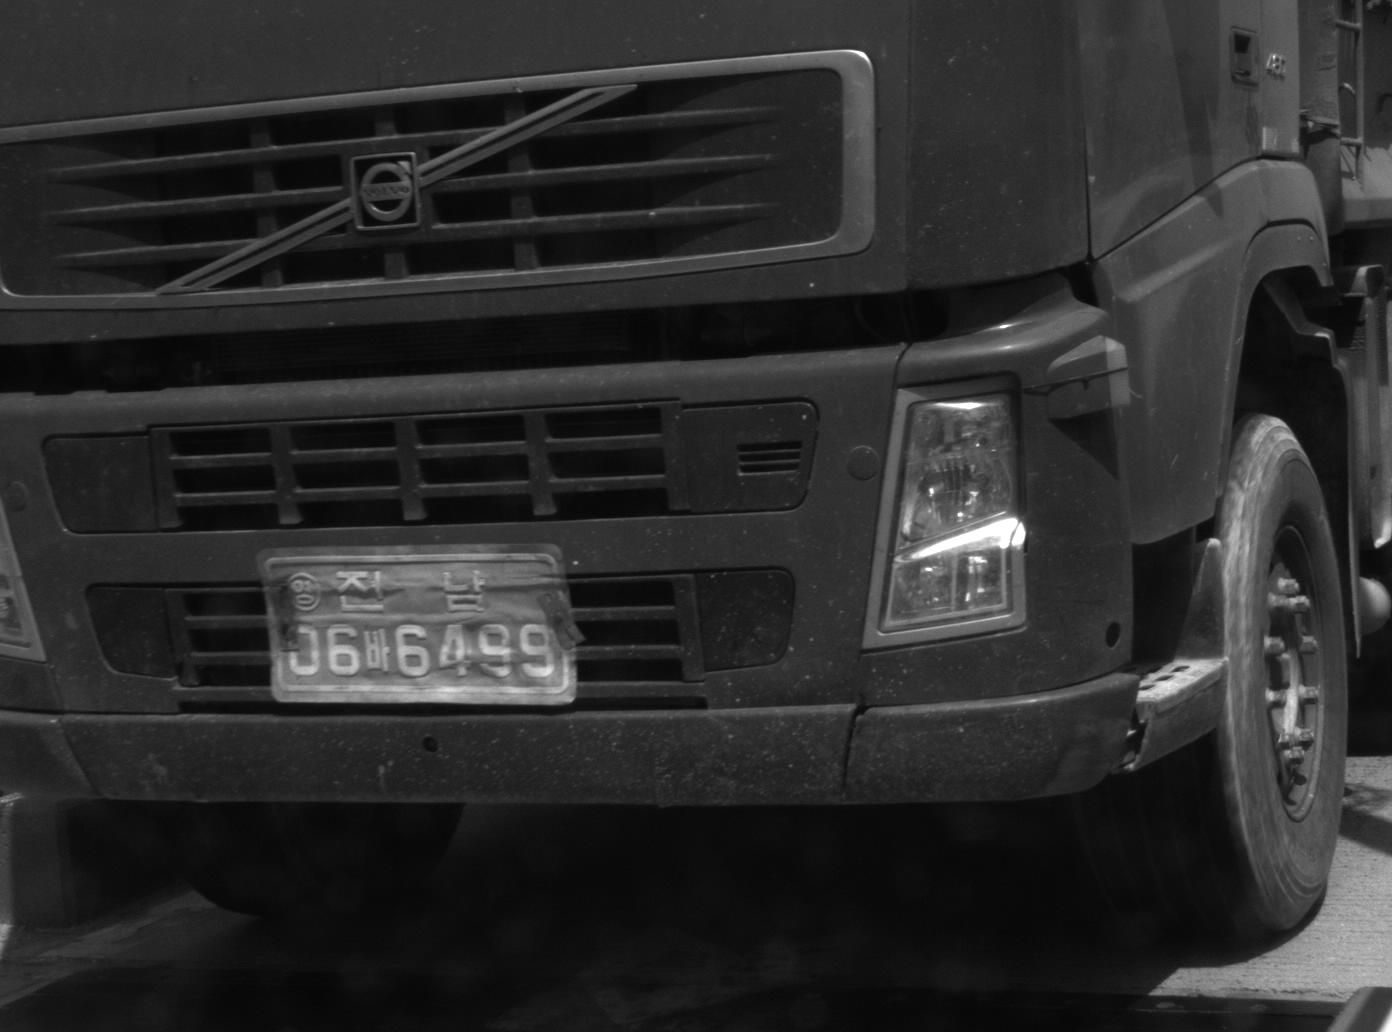car: (1, 1, 1389, 955)
plate: (255, 546, 580, 701)
